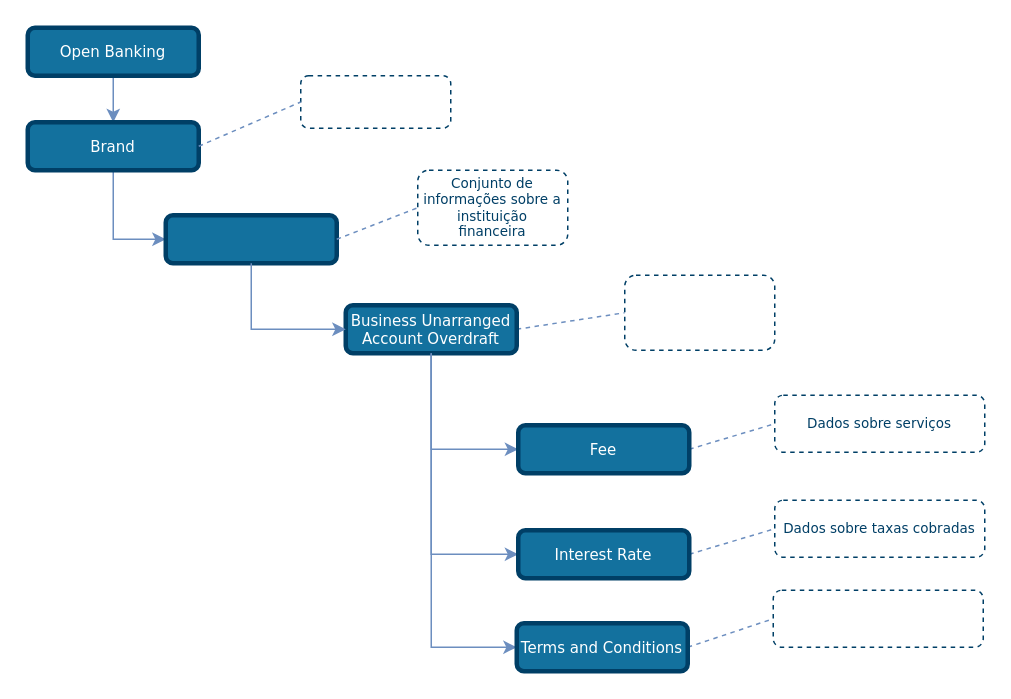
The diagram is 1011 pixels wide and 699 high, and some of its shapes have lost their labels. The shapes that lost their labels are listed below. From the top down, each one's centre as x and y in pixels, then its label:
[375,101]: Dados Marca selecionada pelas Organizações
[250,238]: Companies
[699,312]: Agrupador dos produtos de adiantamento a depositante para pessoa jurídica
[877,618]: Termos e condições contratuais
